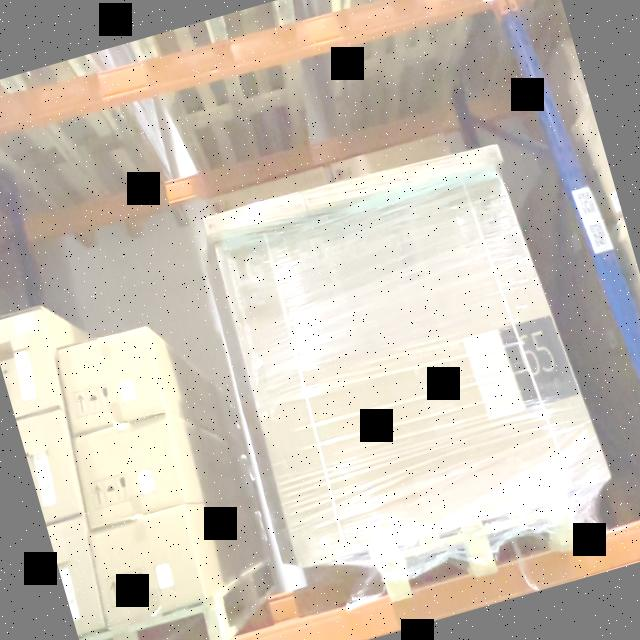box: (218, 172, 589, 563), (74, 414, 184, 527), (92, 514, 200, 616), (58, 332, 159, 426), (404, 140, 504, 189), (205, 191, 306, 237), (305, 166, 403, 213)
